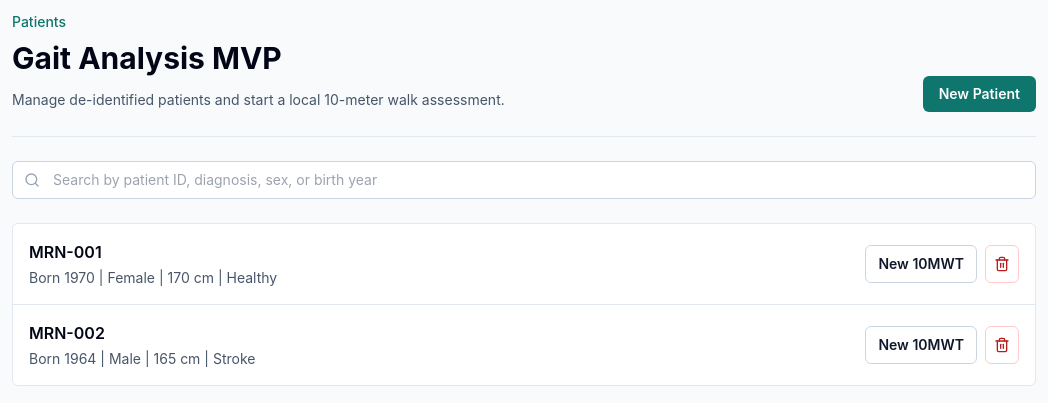
it: HomePage › deletes a patient and refreshes the list
Click the button named "Delete MRN-001": (1002, 264) [985,245,1019,283]
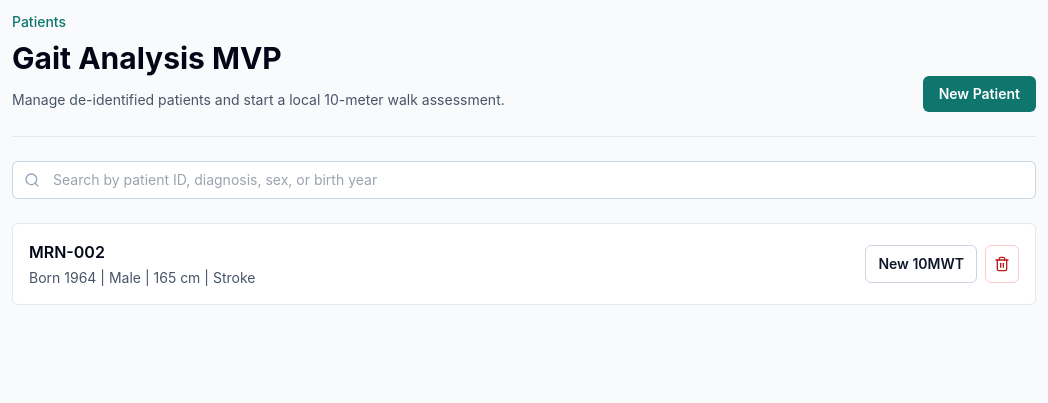
Check: the button "MRN-001" is gone
